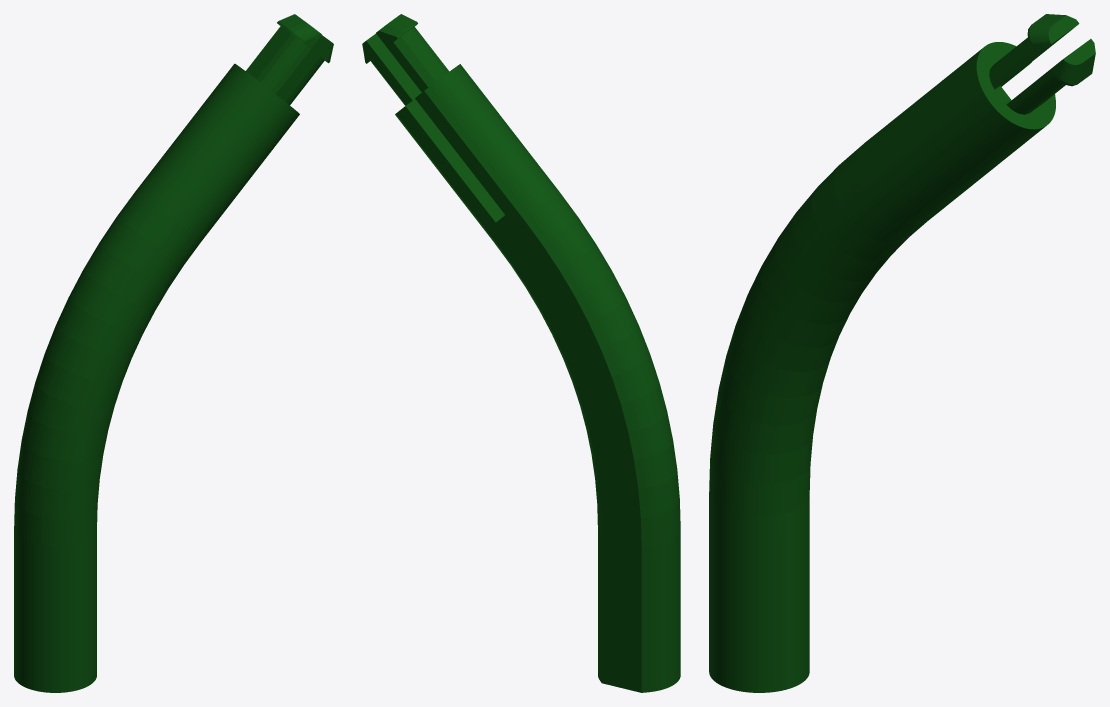
The model's file is stem_1A_45R.glb.
The picture shows the model from 3 angles, left to right: view 1: azimuth 30°, elevation 25°; view 2: azimuth 150°, elevation 25°; view 3: azimuth 330°, elevation 25°; orthographic projection. The views are drawn at different scales.
Parts seen in each view (by area): view 1: stem_1A_45R; view 2: stem_1A_45R; view 3: stem_1A_45R.
Part boxes in pixels (x1=…): stem_1A_45R: x1=14, y1=14, x2=333, y2=692; stem_1A_45R: x1=362, y1=14, x2=680, y2=692; stem_1A_45R: x1=709, y1=14, x2=1095, y2=692.
Size of the model in its own units: 0.0307 by 0.0571 by 0.00666.
